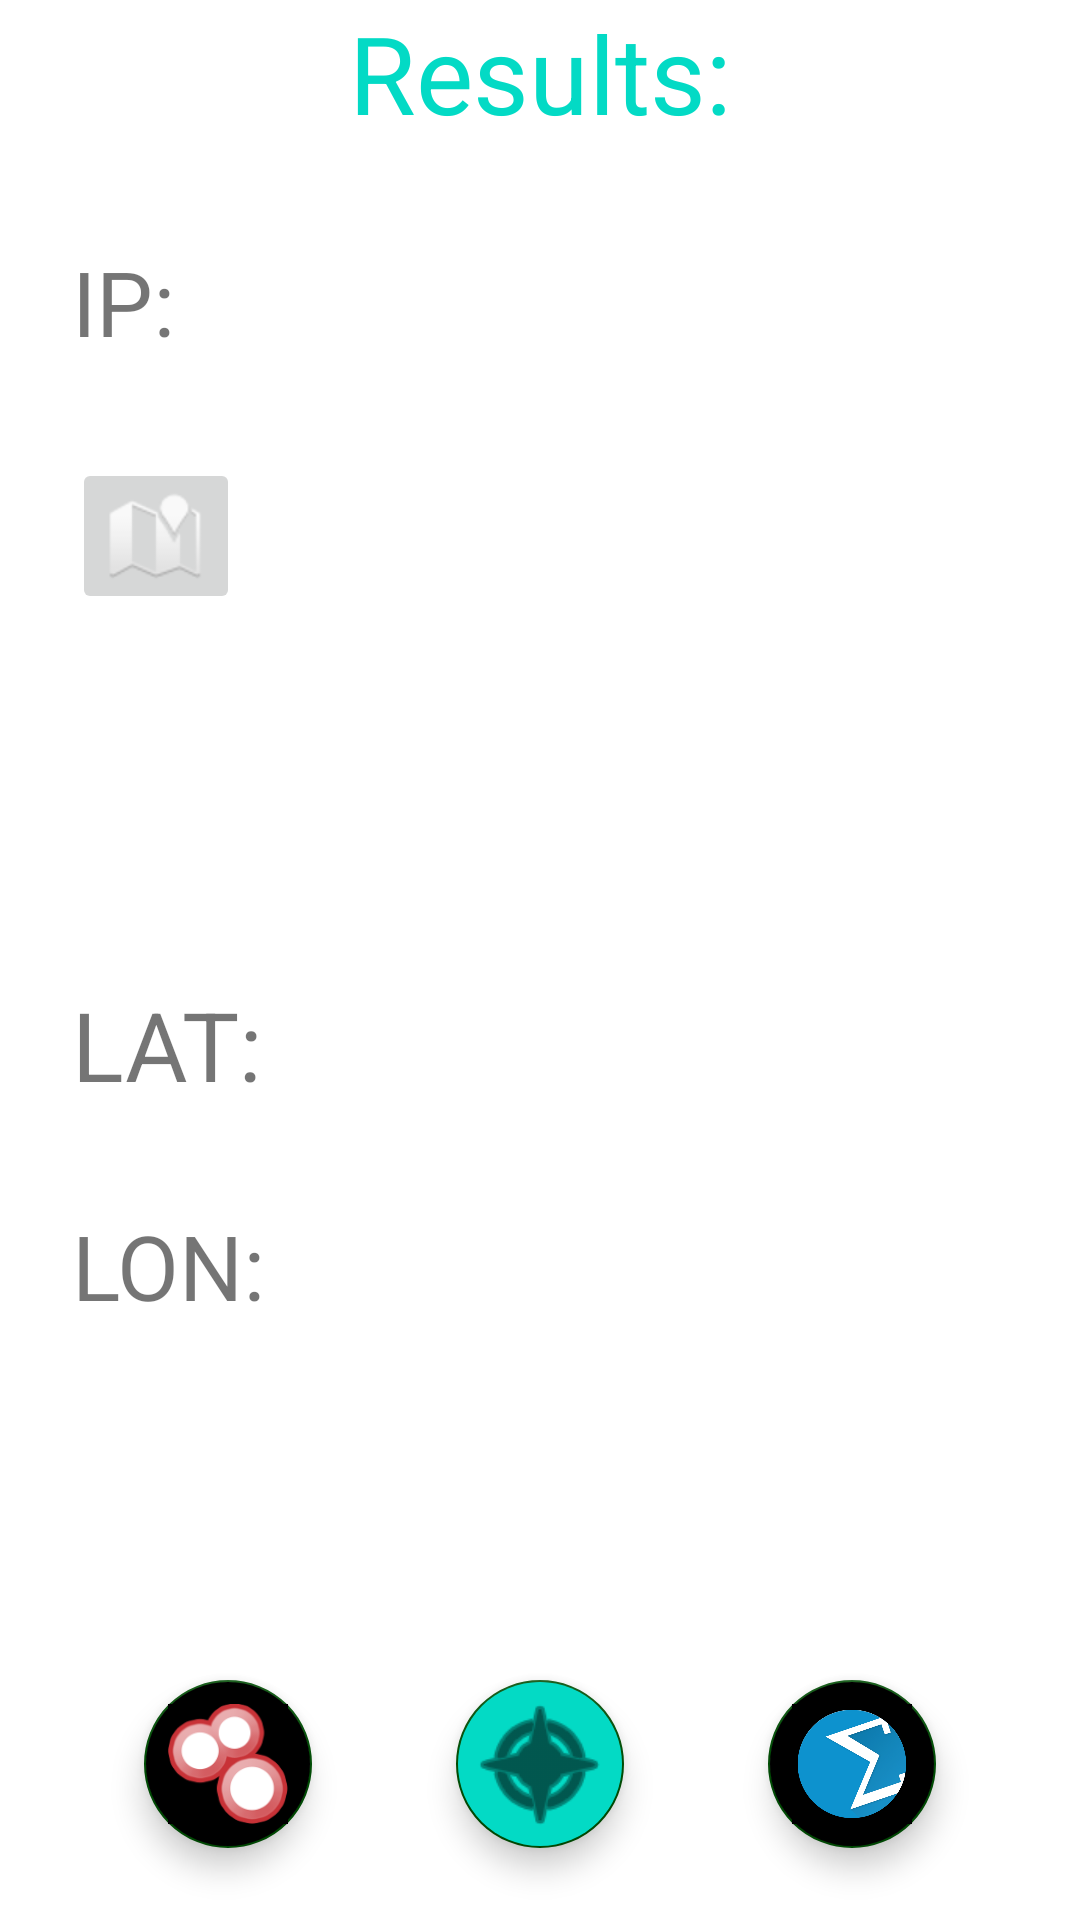

Named icons in this screenshot (1080×1920) and their bounding boxes, (x1, y1, x2, y2):
compass: (456, 1680, 624, 1848)
map: (84, 476, 228, 596)
